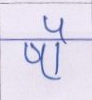ai_matra: (43, 16, 70, 38)
